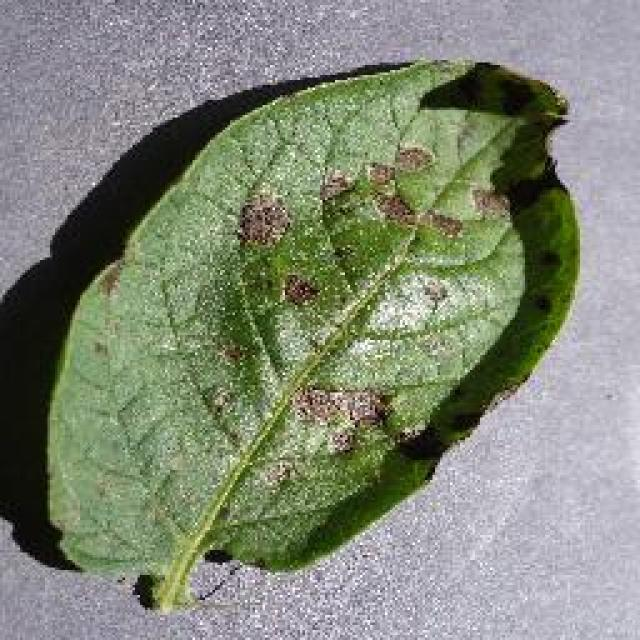early_blight: (38, 55, 582, 613)
